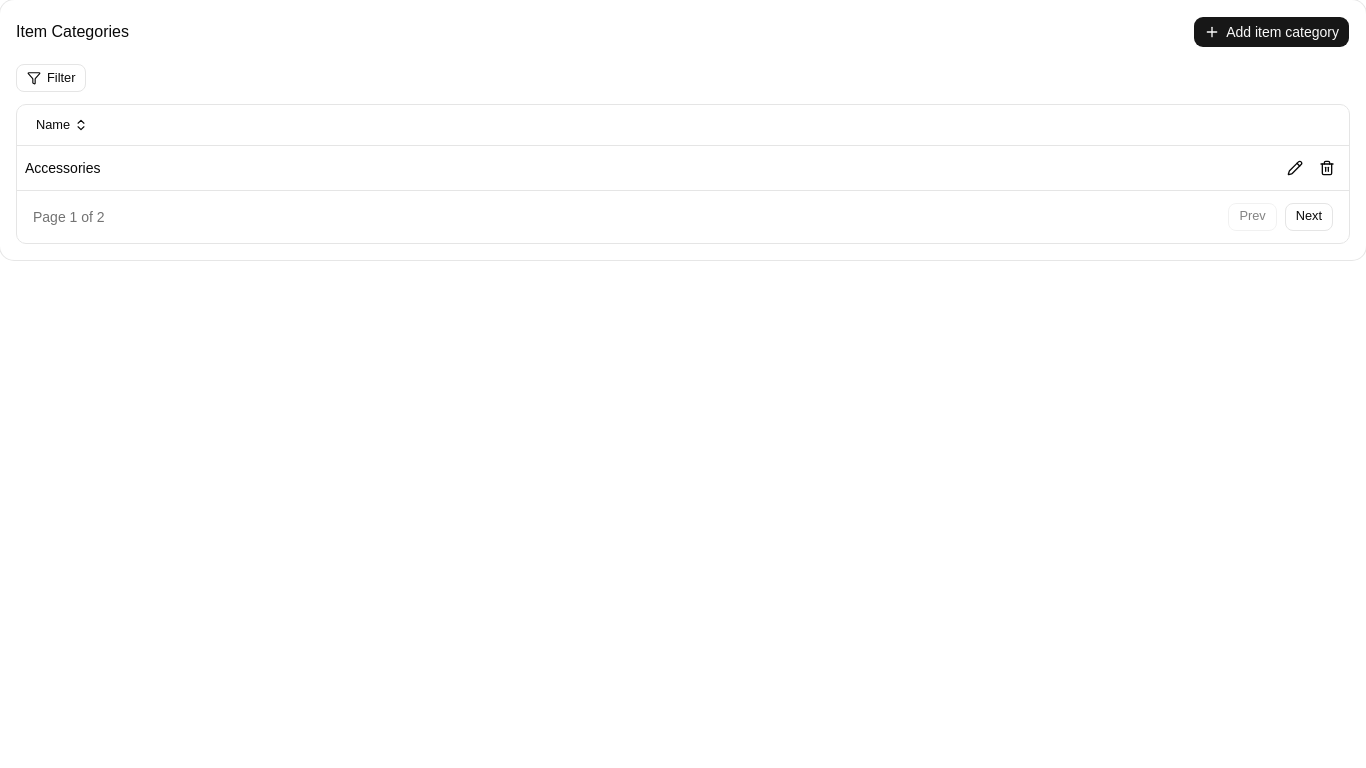
Test: ItemCategoriesTable › filters item categories and resets pagination
The image size is (1366, 768).
Expected: the text "Accessories" is shown, [17,145,744,190]
Click the button "Next" at (1309, 216), box [1285,202,1333,230]
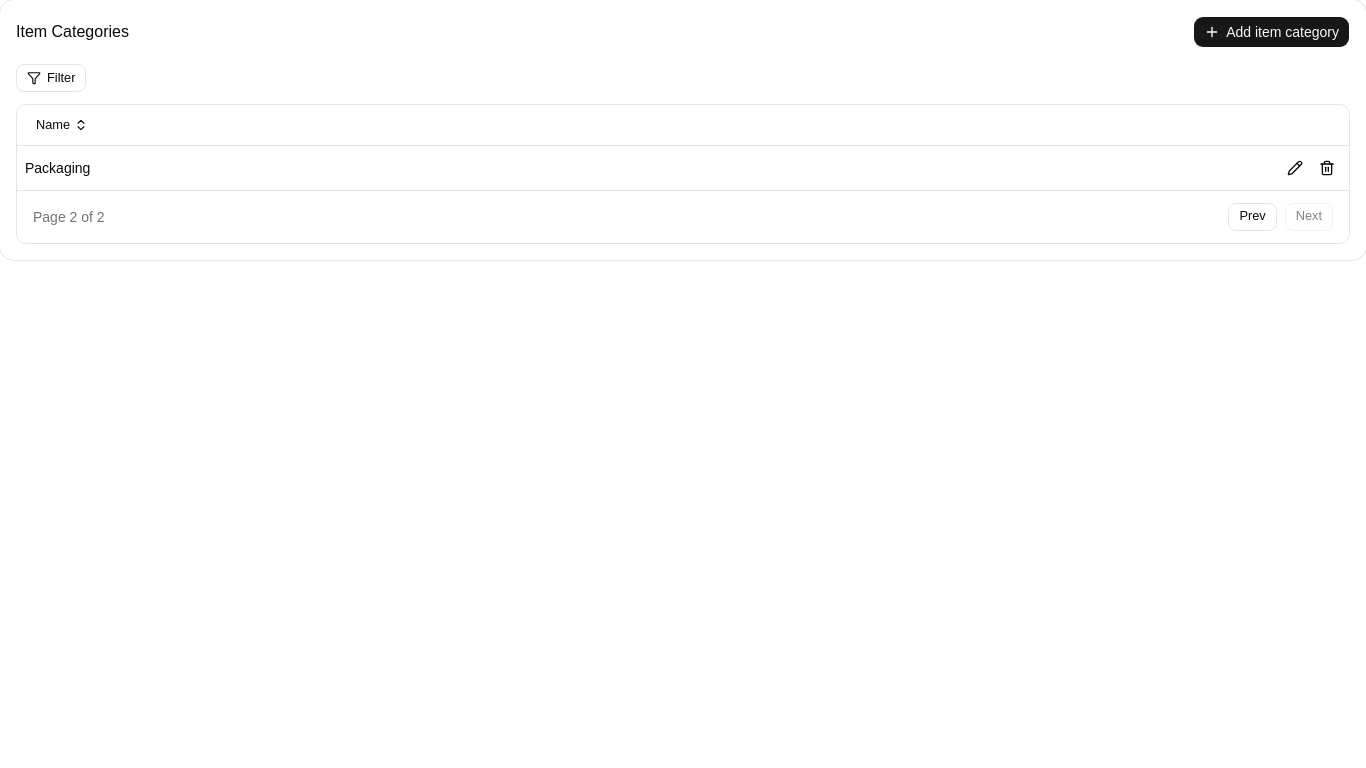
Now the text "Page 2 of 2" is shown, box [33,206,105,226]
Click the button "Filter" at (51, 78), box [16,64,86,92]
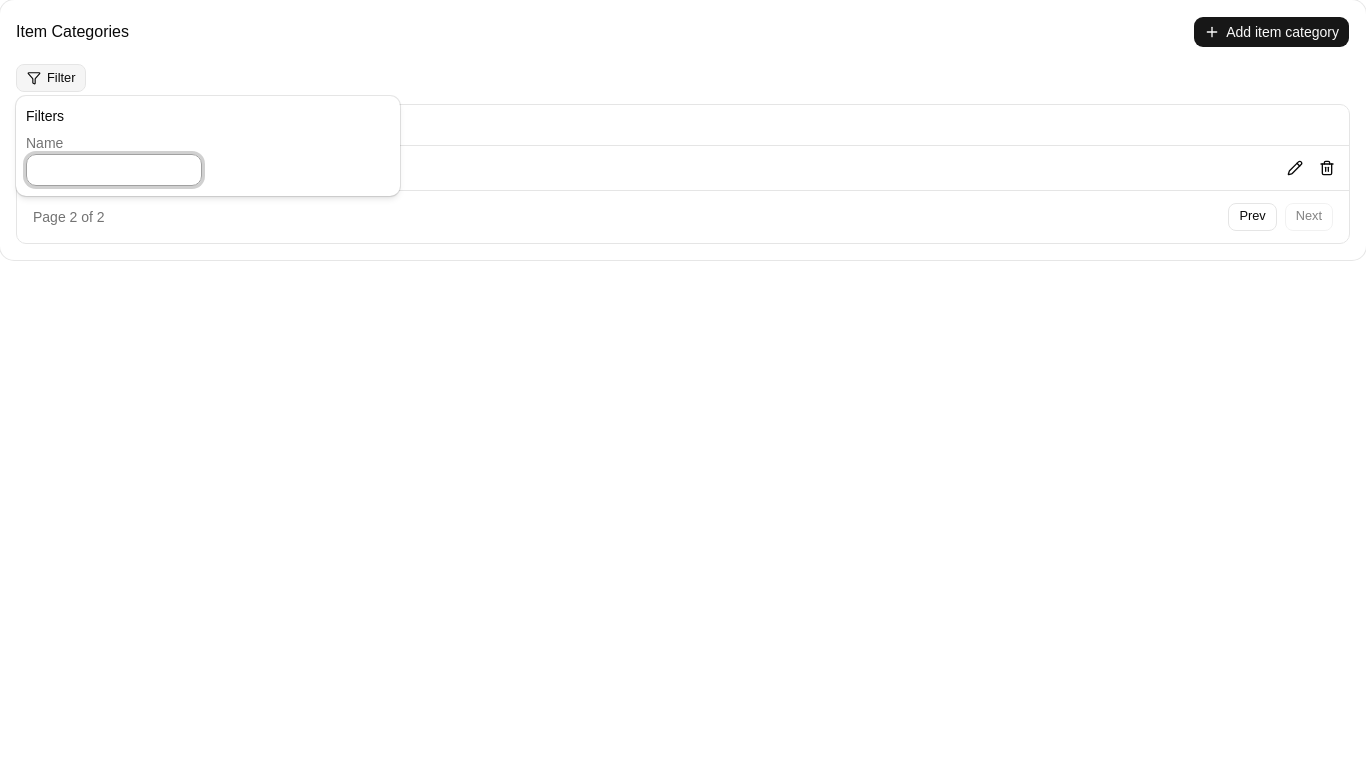
Type "packaging" into the field named "Filter item categories by name" at (114, 170), box [26,154,202,186]
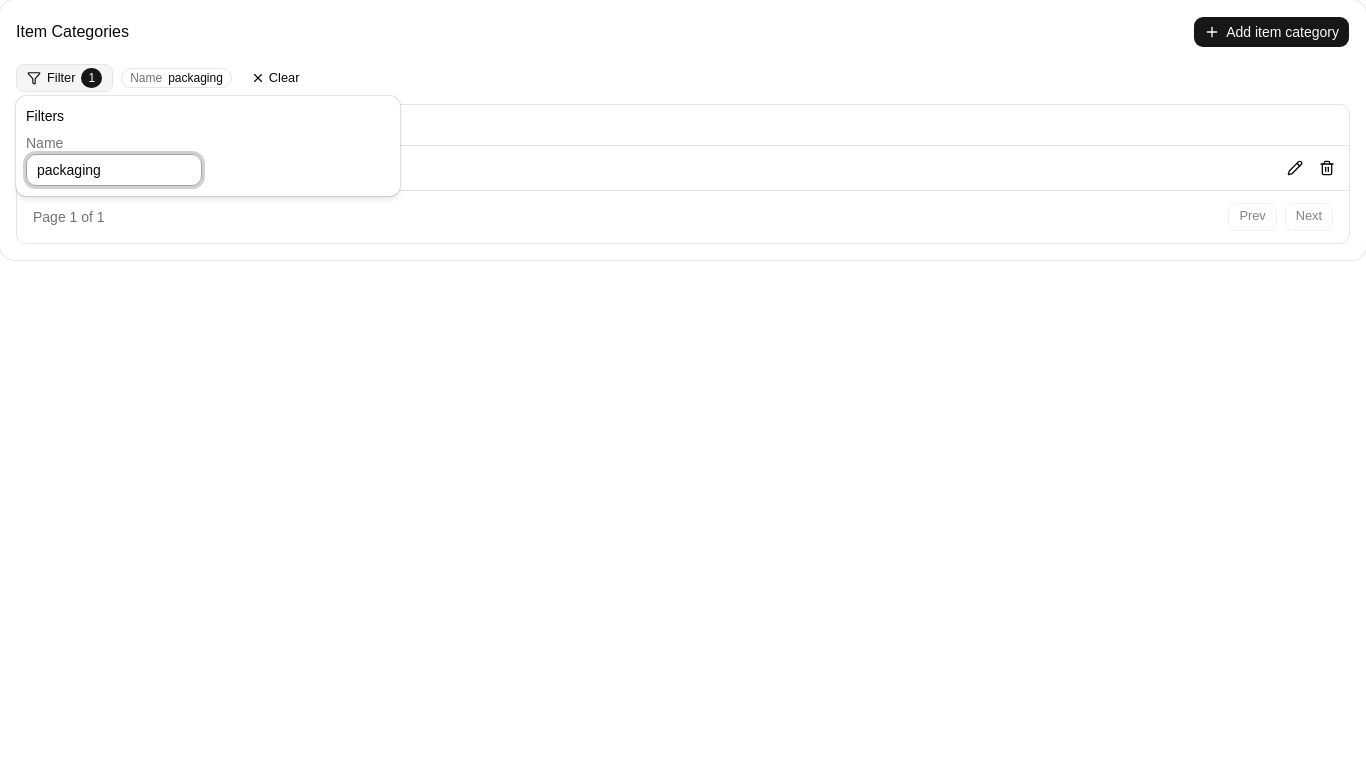
Now the text "Page 1 of 1" is shown, box [33,206,105,226]
